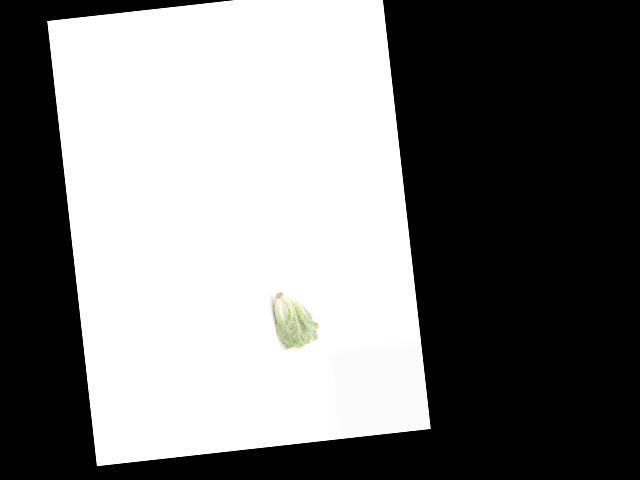lettuce: (269, 285, 321, 350)
